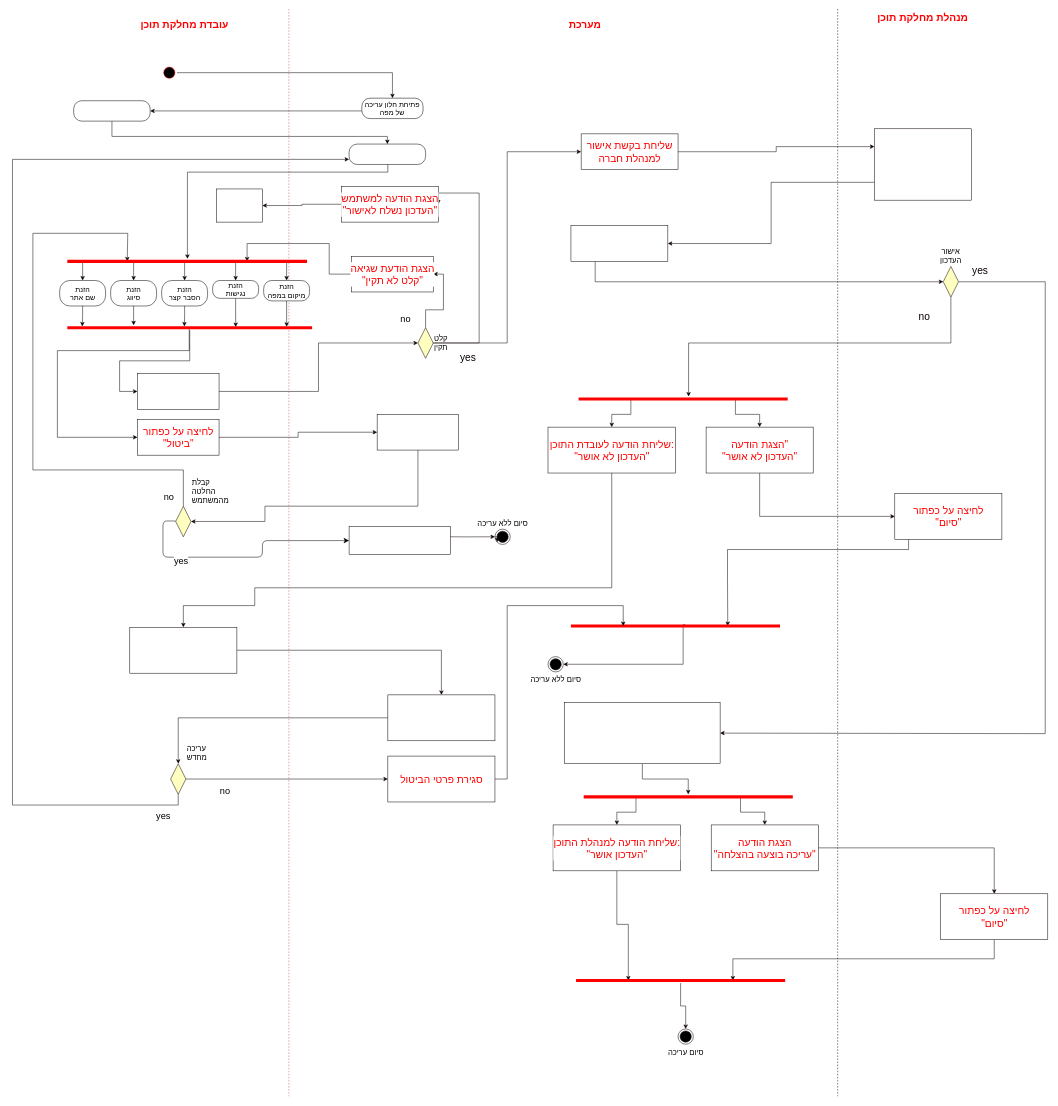
Some shapes in this 1058 by 1106 pixel diagram are drawn without their labels. Each missing label, with the centre of its shape:
«DataStore» עדכון פרטי המחיר בארכיב: point (642, 733)
הצגת הודעת וידוא לפני יציאה: point (418, 432)
הצגת פרטי הביטול: point (441, 717)
הצגת פרטי עדכון: point (619, 243)
לחיצה על "סיום": point (239, 205)
לחיצה על "עריכת תוכן" של מפה: point (169, 72)
לחיצה על כפתור "אישור: point (178, 391)
לחיצה על כפתור "צפייה בפרטים": point (922, 164)
לחיצה על כפתור הוספת מקום בעל עניין: point (111, 110)
לחיצה על צפייה בפרטים: point (183, 650)
סגירת חלון מילוי פרטים: point (400, 540)
פתיחת חלון למילוי פרטי אתר: point (387, 154)
